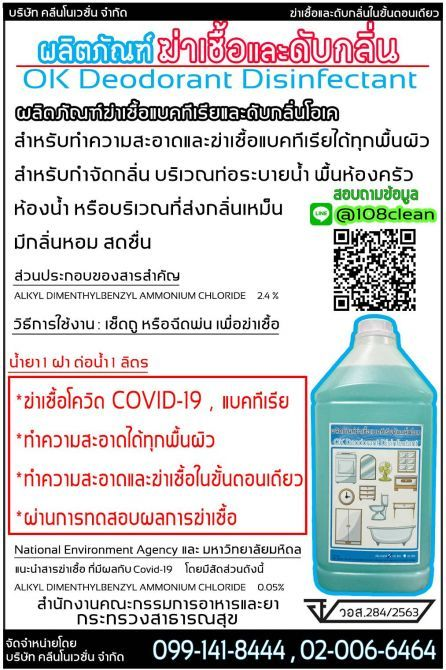Cleaning_solution: (310, 316, 436, 595)
